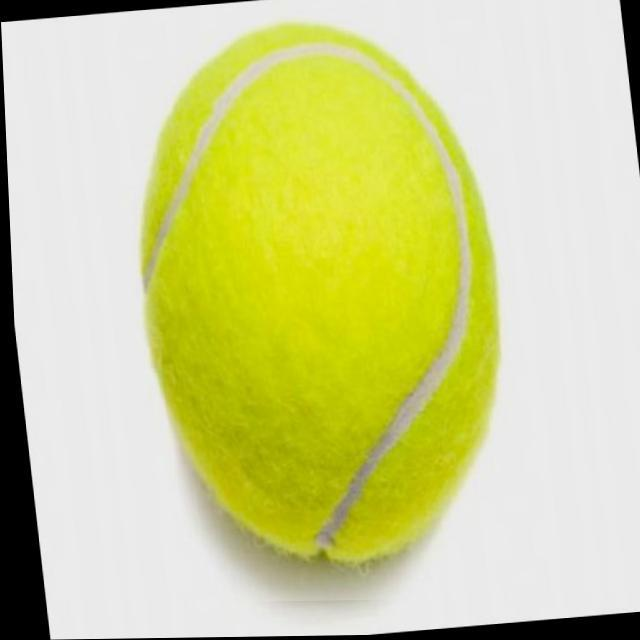-: (90, 5, 544, 604)
